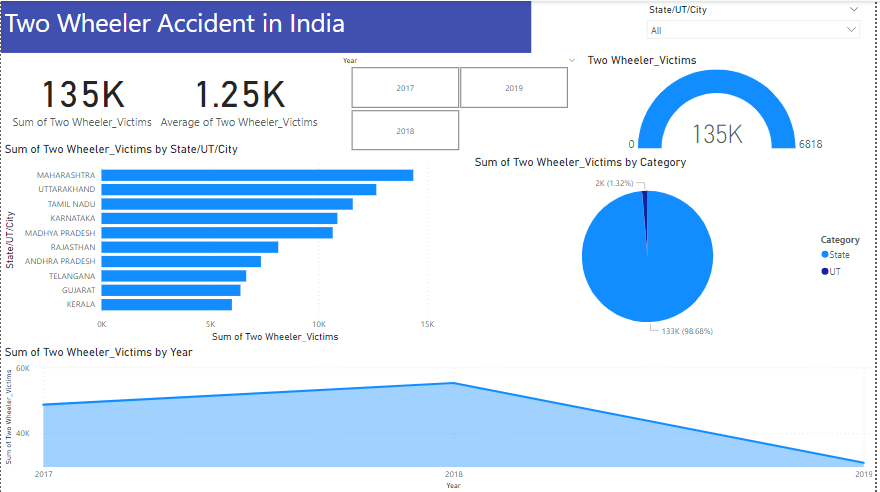

Layout of this report page (visuals, bound fields, positions):
{"tool":"powerbi","page":{"name":"Two_wheel_Victims","canvas":[1280,720],"ordinal":6},"visuals":[{"type":"clusteredBarChart","fields":{"Category":["two_wheeler Victims Combined.State/UT/City"],"Y":["Sum(two_wheeler Victims Combined.Two Wheeler_Victims)"]},"box":[0,206.3,670.2,297.1],"z":0},{"type":"pieChart","fields":{"Category":["two_wheeler Victims Combined.Category"],"Y":["Sum(two_wheeler Victims Combined.Two Wheeler_Victims)"]},"box":[687.8,225.4,592.7,278],"z":1000},{"type":"areaChart","fields":{"Category":["two_wheeler Victims Combined.Year"],"Y":["Sum(two_wheeler Victims Combined.Two Wheeler_Victims)"]},"box":[0,503.4,1280.5,216.6],"z":2000},{"type":"card","fields":{"Values":["Sum(two_wheeler Victims Combined.Two Wheeler_Victims)"]},"box":[0,76.1,237.1,125.9],"z":3000},{"type":"card","fields":{"Values":["Avg(two_wheeler Victims Combined.Two Wheeler_Victims)"]},"box":[226.8,76.1,242.9,125.9],"z":4000},{"type":"gauge","title":"Two Wheeler_Victims","fields":{"MinValue":["Min(two_wheeler Victims Combined.Two Wheeler_Victims)"],"MaxValue":["Max(two_wheeler Victims Combined.Two Wheeler_Victims)1"],"Y":["Sum(two_wheeler Victims Combined.Two Wheeler_Victims)2"]},"box":[853.2,76.1,414.1,149.3],"z":5000},{"type":"textbox","box":[0,0,775.6,76.1],"z":6000},{"type":"slicer","fields":{"Values":["two_wheeler Victims Combined.State/UT/City"]},"box":[935.1,0,332.2,76.1],"z":7000},{"type":"slicer","fields":{"Values":["two_wheeler Victims Combined.Year"]},"box":[487.3,76.1,365.9,149.3],"z":8000}]}

Visuals, with their boxes in screenshot pixels (x1, y1, x2, y2), scaled from the page's 1280x720 canvas onto the 880x492 screenshot:
clusteredBarChart - two_wheeler Victims Combined.State/UT/City x Sum(two_wheeler Victims Combined.Two Wheeler_Victims): {"x1": 0, "y1": 141, "x2": 461, "y2": 344}
pieChart - two_wheeler Victims Combined.Category x Sum(two_wheeler Victims Combined.Two Wheeler_Victims): {"x1": 473, "y1": 154, "x2": 879, "y2": 344}
areaChart - two_wheeler Victims Combined.Year x Sum(two_wheeler Victims Combined.Two Wheeler_Victims): {"x1": 0, "y1": 344, "x2": 879, "y2": 491}
card - Sum(two_wheeler Victims Combined.Two Wheeler_Victims): {"x1": 0, "y1": 52, "x2": 163, "y2": 138}
card - Avg(two_wheeler Victims Combined.Two Wheeler_Victims): {"x1": 156, "y1": 52, "x2": 323, "y2": 138}
"Two Wheeler_Victims" gauge: {"x1": 587, "y1": 52, "x2": 871, "y2": 154}
textbox: {"x1": 0, "y1": 0, "x2": 533, "y2": 52}
slicer - two_wheeler Victims Combined.State/UT/City: {"x1": 643, "y1": 0, "x2": 871, "y2": 52}
slicer - two_wheeler Victims Combined.Year: {"x1": 335, "y1": 52, "x2": 587, "y2": 154}
